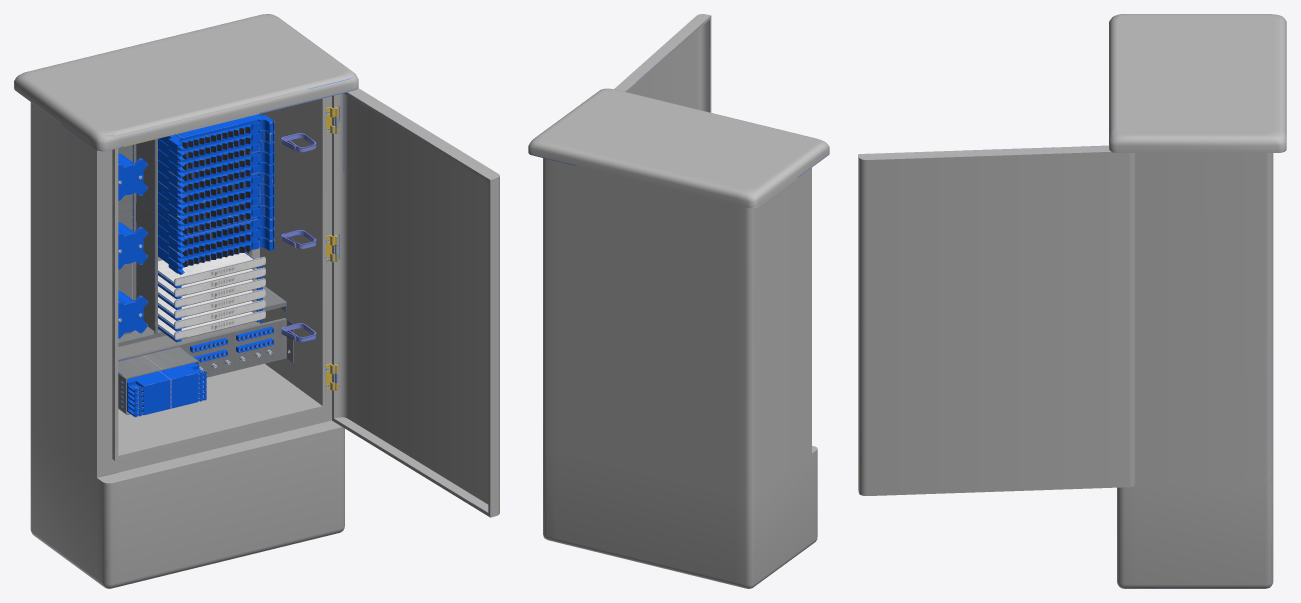
File: PAZ ODC.fbx
3 renders of one model, left to right at view 1: azimuth 30°, elevation 25°; view 2: azimuth 150°, elevation 25°; view 3: azimuth 270°, elevation 25°, orthographic. The views are drawn at different scales.
Visible parts, largest first — view 1: paz odc, pintu.001; view 2: paz odc, pintu.001; view 3: pintu.001, paz odc.
Boxes of the visible parts, x1,y1,x2,y2 form: paz odc: [14, 14, 358, 588]; pintu.001: [332, 88, 499, 517]; paz odc: [528, 88, 829, 588]; pintu.001: [614, 14, 711, 112]; pintu.001: [858, 145, 1135, 495]; paz odc: [1109, 14, 1286, 588].
Bounding box in the file's own units: 63.01 × 100 × 84.8.
1 material, 1 textured.
